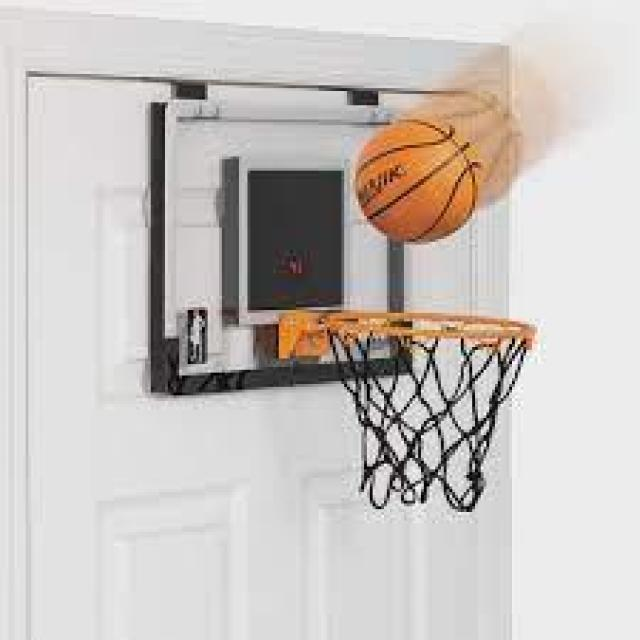basketball: (358, 122, 478, 239)
hoop: (324, 313, 535, 515)
